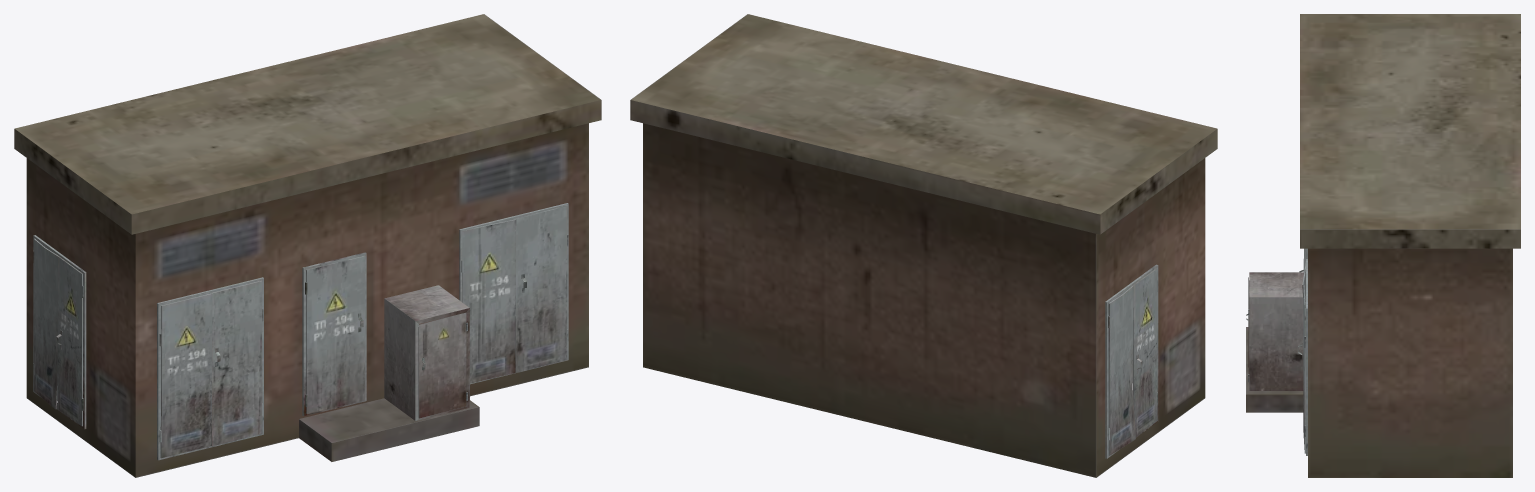
The model's file is transformer-booth.lod1.glb.
3 views of the same model, side by side, from view 1: azimuth 30°, elevation 25°; view 2: azimuth 150°, elevation 25°; view 3: azimuth 270°, elevation 25° (orthographic). The views are drawn at different scales.
Visible parts, largest first — view 1: transform_low_brick_0, transform_low_metal_0; view 2: transform_low_brick_0, transform_low_metal_0; view 3: transform_low_brick_0, transform_low_metal_0.
Boxes of the visible parts, x1=… form: transform_low_brick_0: x1=14, y1=14, x2=601, y2=477; transform_low_metal_0: x1=33, y1=203, x2=568, y2=460; transform_low_brick_0: x1=630, y1=14, x2=1217, y2=477; transform_low_metal_0: x1=1105, y1=264, x2=1158, y2=458; transform_low_brick_0: x1=1246, y1=14, x2=1520, y2=477; transform_low_metal_0: x1=1246, y1=248, x2=1307, y2=455.
Bounding box in the file's own units: 8 × 4.37 × 4.31.
2 materials, 2 textured.
